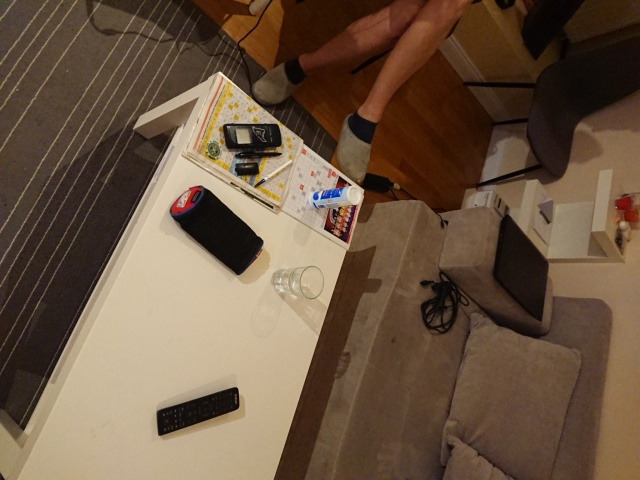Solana Pag Fine Sea Salt 250g: (307, 183, 365, 213)
